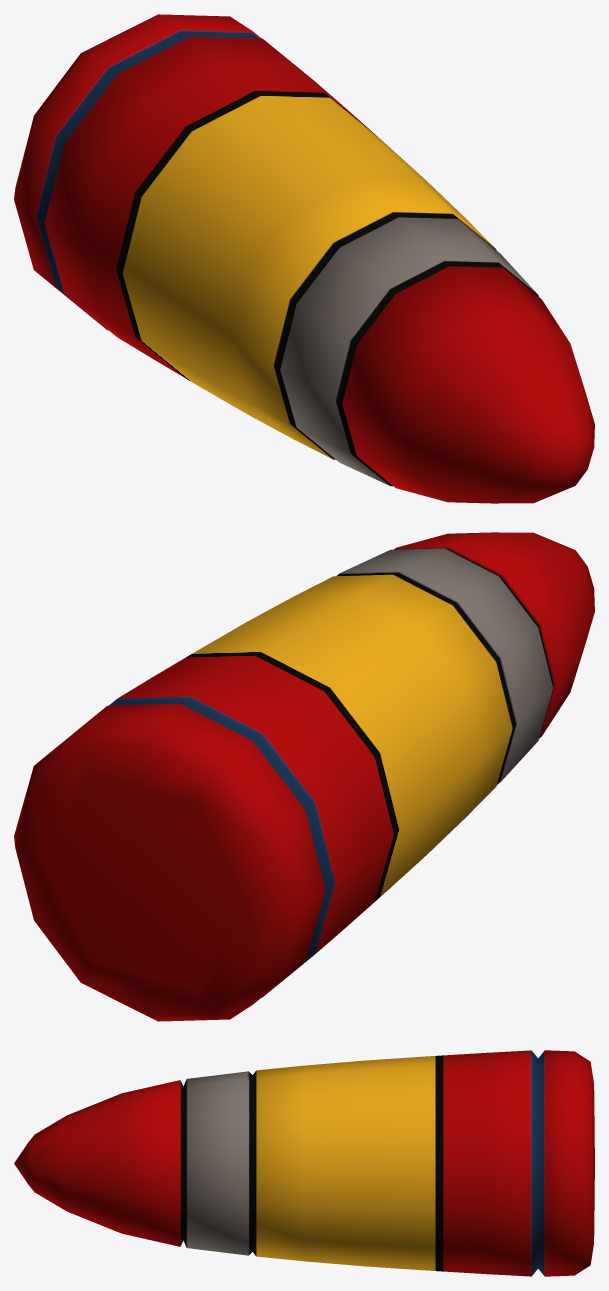
The model's file is 9mmbullet.fbx.
The picture shows the model from 3 angles, top to bottom: view 1: azimuth 30°, elevation 25°; view 2: azimuth 150°, elevation 25°; view 3: azimuth 270°, elevation 25°; orthographic projection. The views are drawn at different scales.
Visible parts, largest first — view 1: _9mmbullet; view 2: _9mmbullet; view 3: _9mmbullet.
Boxes of the visible parts, x1=… form: _9mmbullet: x1=14, y1=14, x2=594, y2=503; _9mmbullet: x1=14, y1=532, x2=594, y2=1021; _9mmbullet: x1=14, y1=1050, x2=594, y2=1276.
Size of the model in its own units: 17.15 by 17.08 by 43.83.
